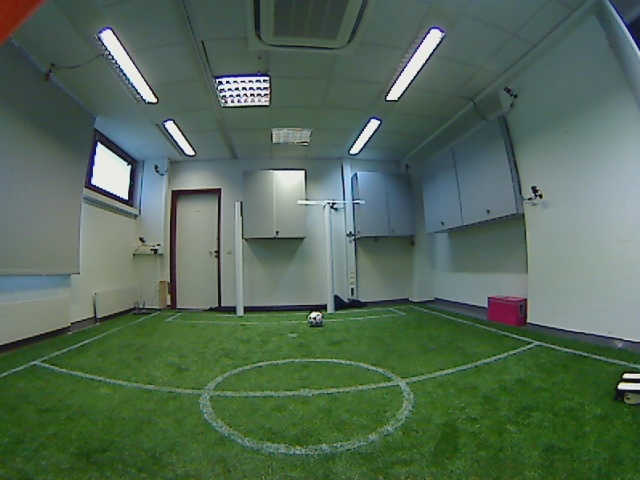ball: (304, 306, 329, 331)
